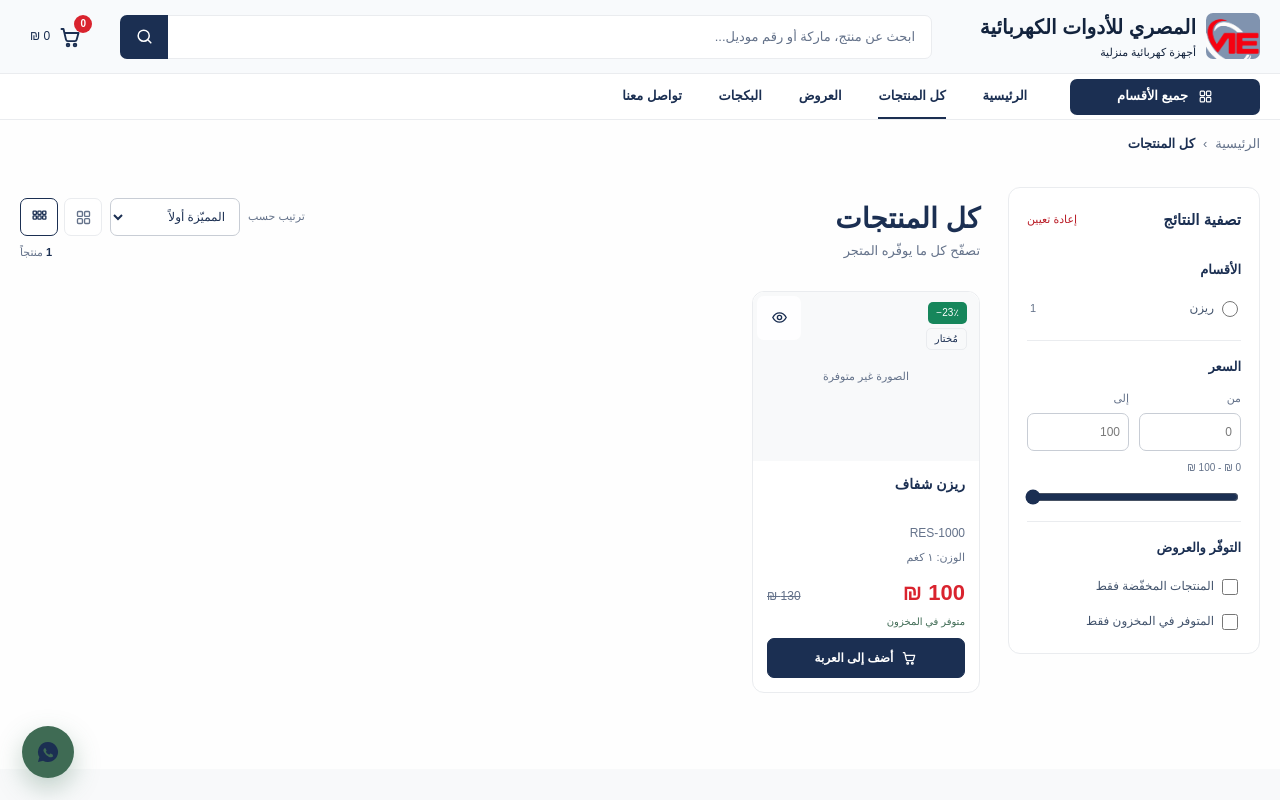
Test: product card behaviour › announces successful addition with the compact label enabled
This screenshot has width=1280, height=800.
Click the button "أضف إلى العربة".
click(866, 658)  # box [767,638,965,678]
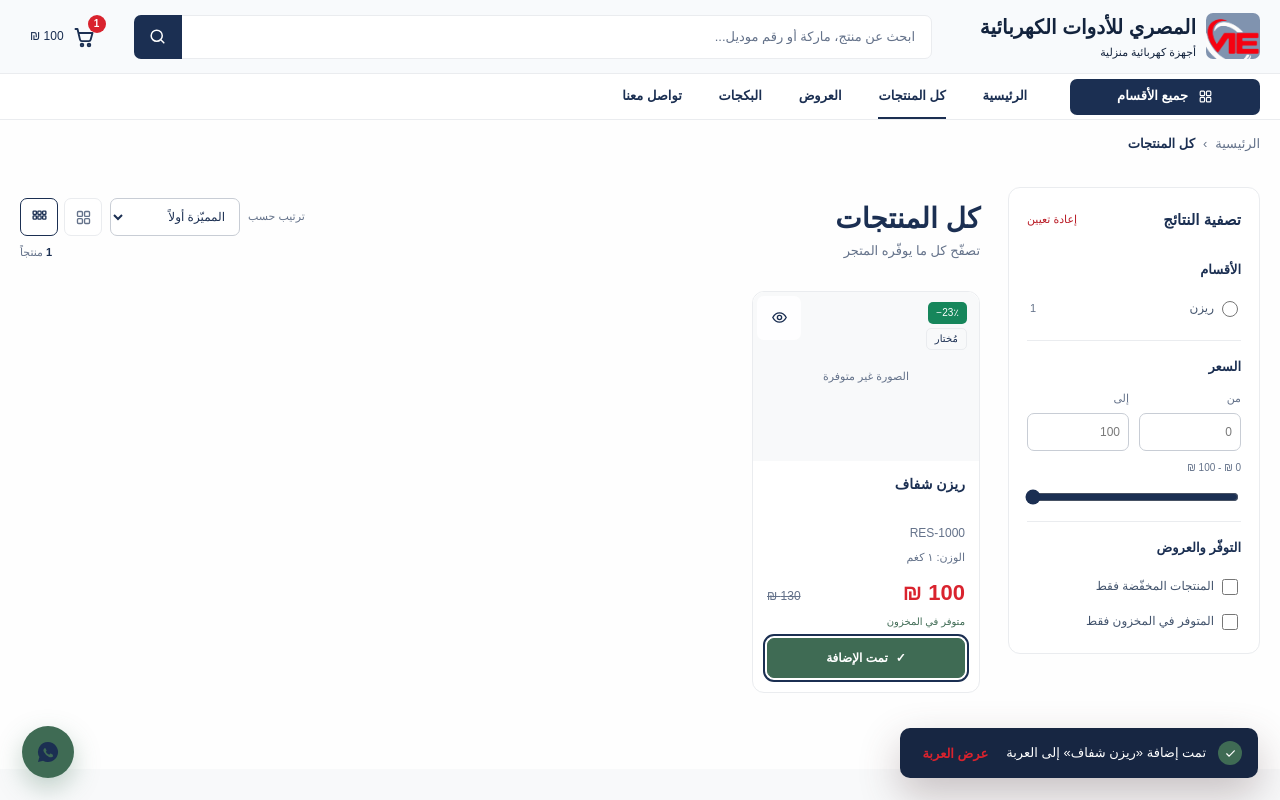
Expected: the button "✓ تمت الإضافة" is shown, [767,638,965,678]
